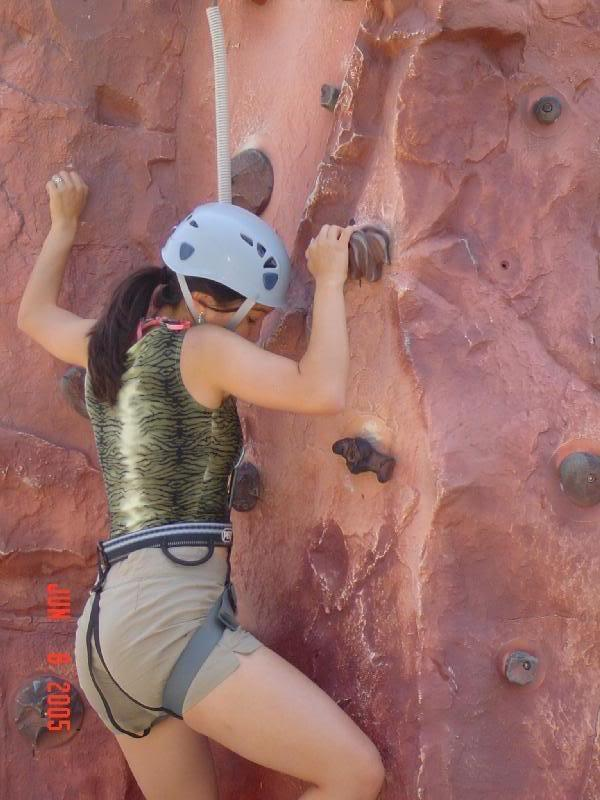person: (15, 163, 386, 800)
